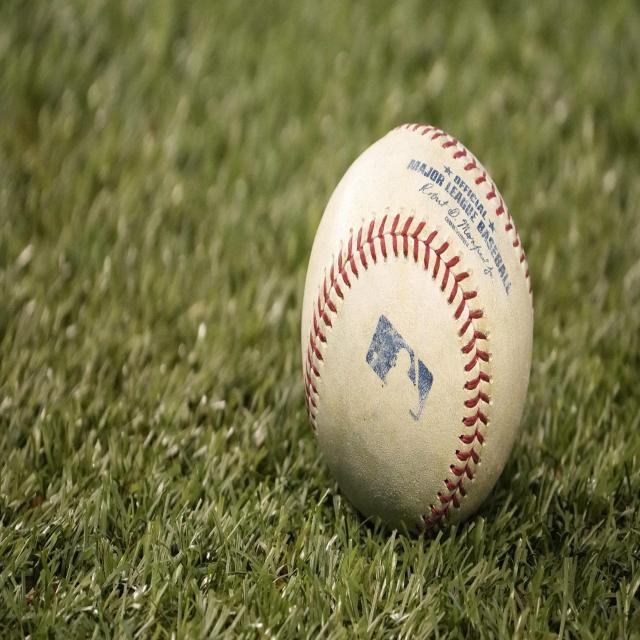baseball: (299, 119, 535, 542)
